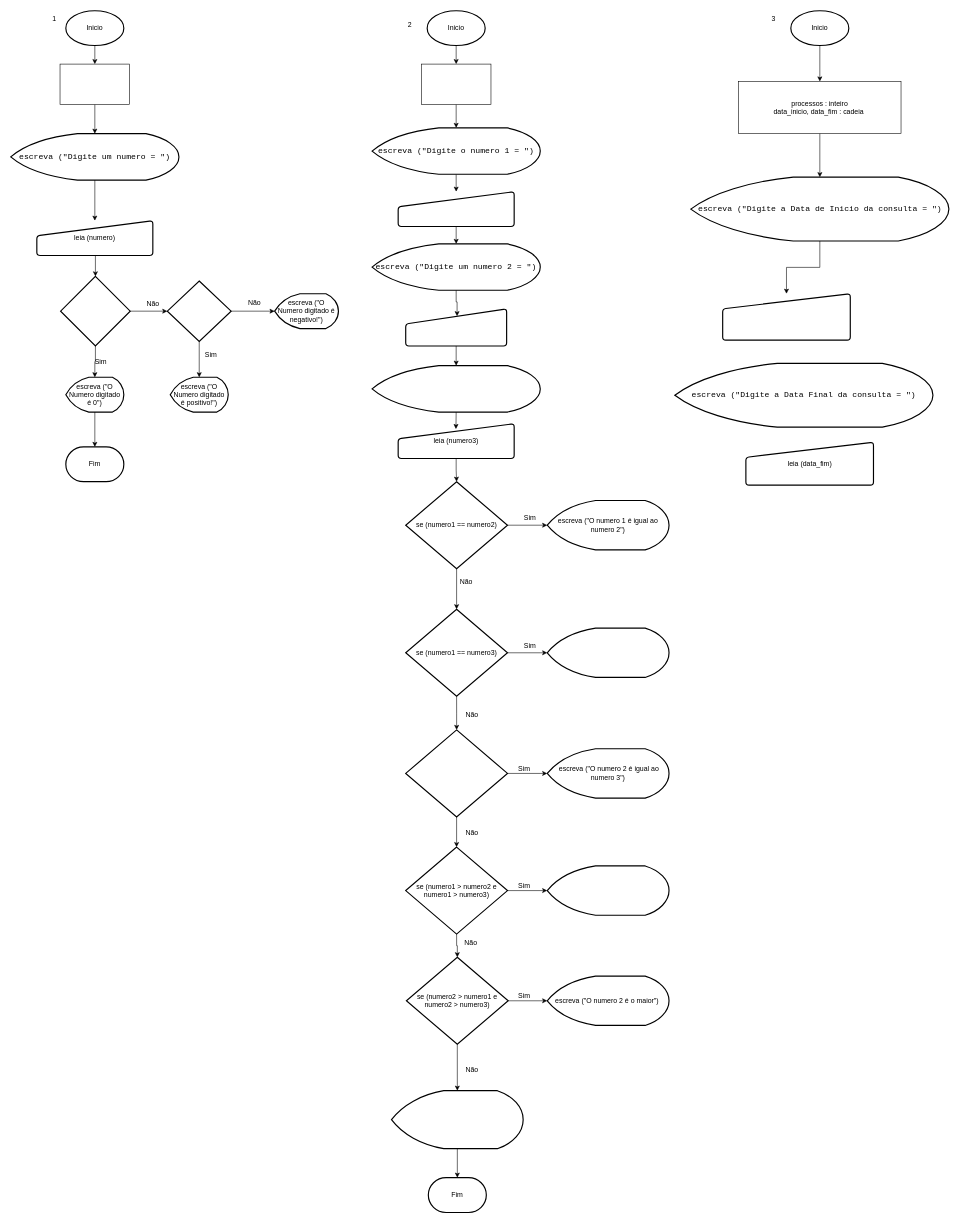
Image size: 959x1223. Some labels were removed from this diagram. The box of each missing label's shape, as (x1, y1, x2, y2) in pixels:
escreva ("Digite um numero 3 = "): (371, 365, 541, 412)
escreva ("O numero 1 é igual ao numero 3"): (546, 627, 669, 678)
escreva ("O numero 1 é o maior"): (546, 865, 669, 916)
escreva ("O numero 3 é o maior"): (391, 1090, 523, 1149)
leia (data_inicio): (722, 293, 851, 340)
leia (numero1): (397, 191, 514, 227)
leia (numero2): (405, 308, 507, 346)
numero : real: (59, 64, 130, 105)
numero1, numero2, numero3 : real: (421, 64, 491, 105)
se (numero == 0 ): (60, 276, 130, 346)
se (numero > 0): (166, 280, 231, 342)
se (numero2 == numero3): (405, 729, 508, 817)
